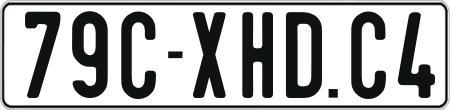4: (395, 11, 429, 102)
7: (22, 9, 58, 99)
9: (72, 9, 110, 97)
C: (120, 12, 161, 102), (351, 10, 390, 99)
D: (284, 11, 320, 99)
H: (242, 10, 279, 98)
X: (191, 9, 226, 100)
